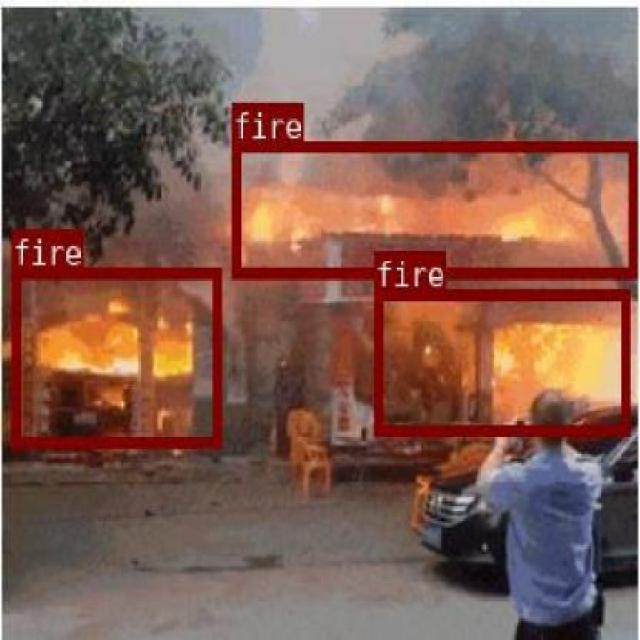Fire: (231, 139, 634, 276), (10, 266, 219, 446), (373, 288, 627, 434)
